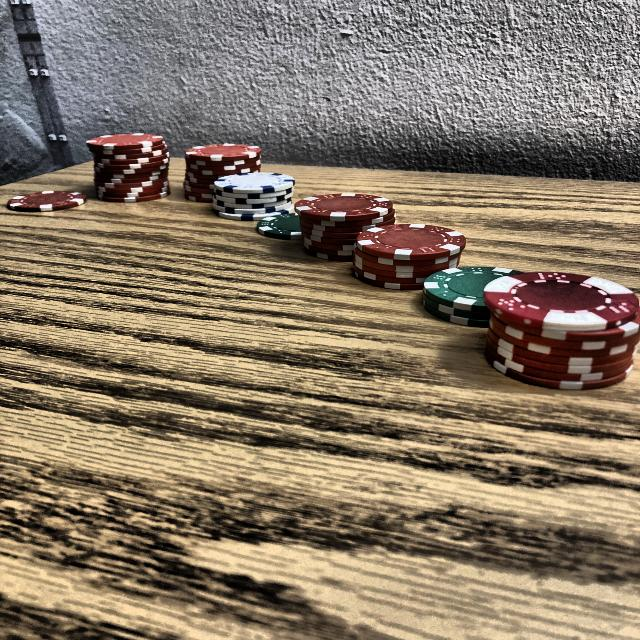Chip: (460, 249, 632, 408), (291, 182, 404, 268), (350, 215, 474, 292), (414, 259, 550, 327), (210, 166, 304, 238), (96, 132, 172, 204), (194, 140, 265, 206), (256, 204, 347, 244), (5, 181, 87, 218)
